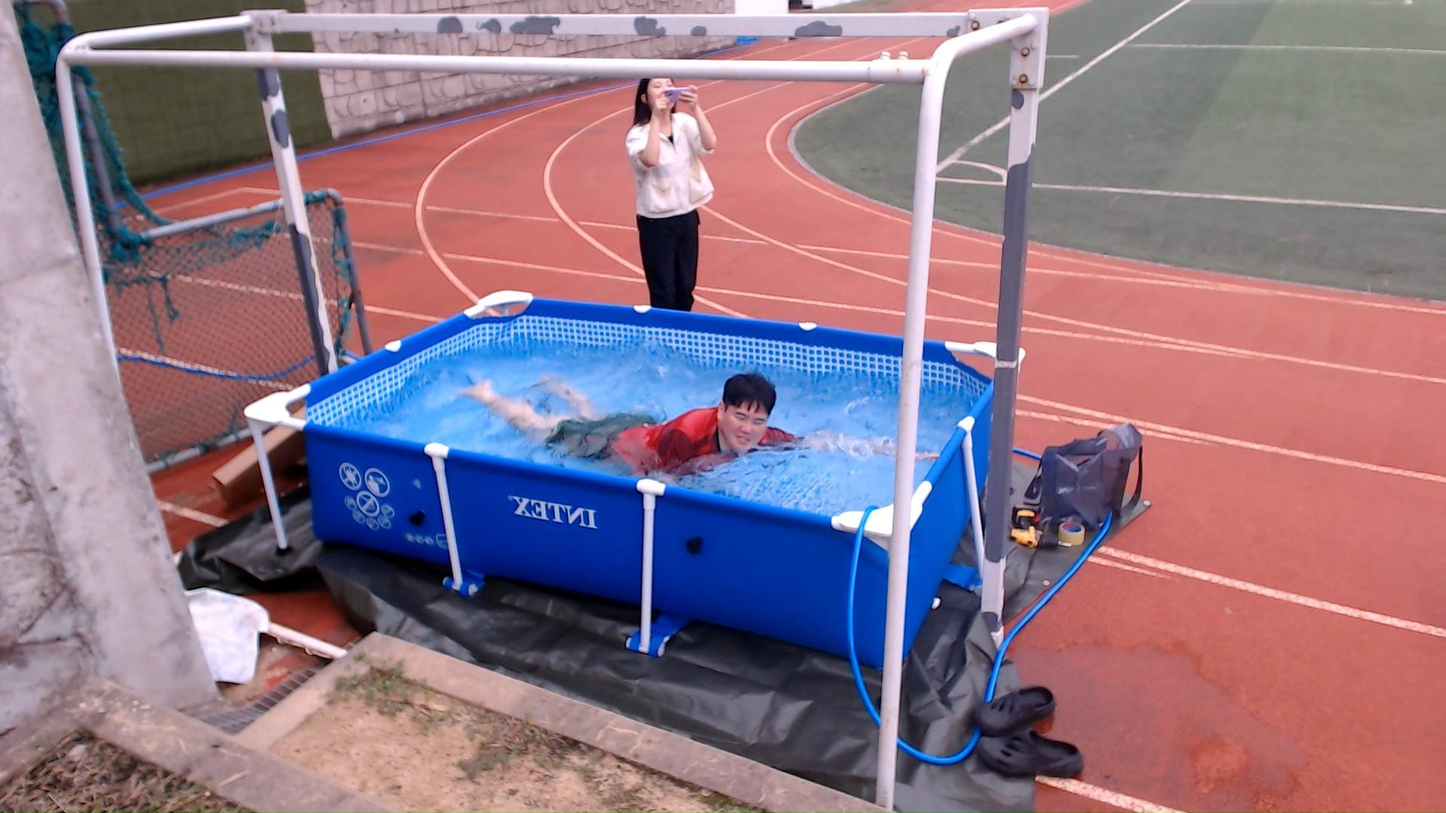Swimming: (399, 347, 961, 476)
